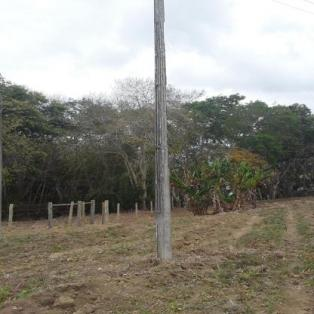Poste: (148, 0, 172, 267)
